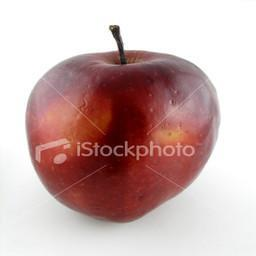apple: (23, 45, 220, 223)
